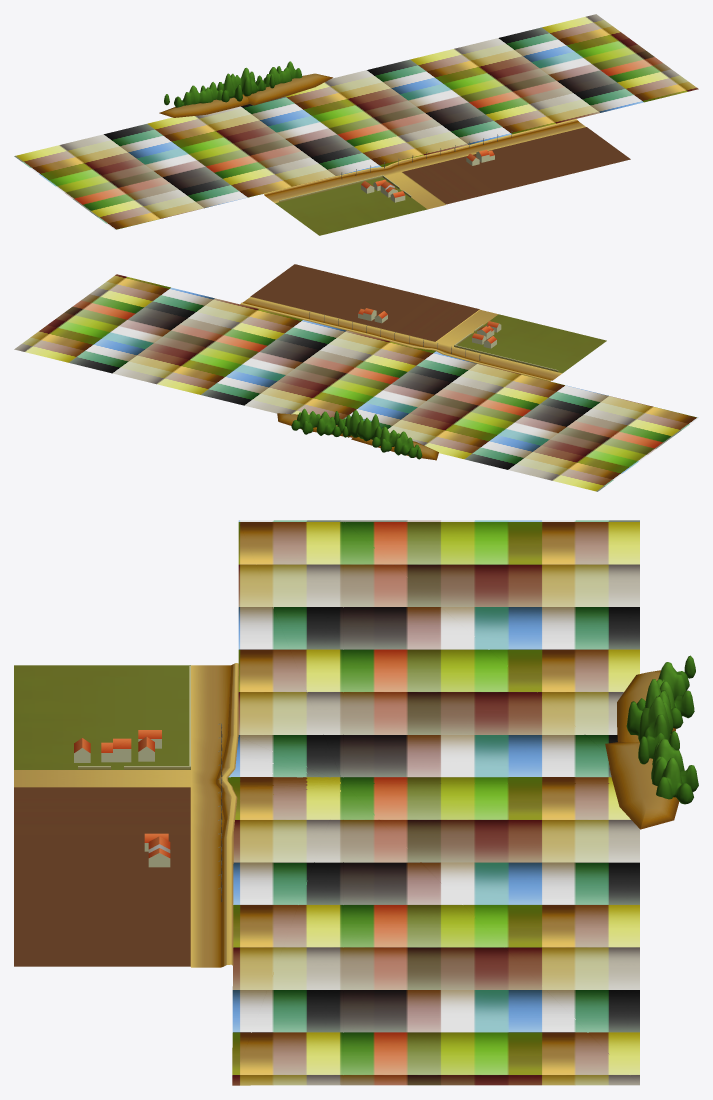
Rendered from Diorama_Dyke.fbx.
The picture shows the model from 3 angles, top to bottom: view 1: azimuth 30°, elevation 25°; view 2: azimuth 150°, elevation 25°; view 3: azimuth 270°, elevation 25°; orthographic projection. The views are drawn at different scales.
Visible parts, largest first — view 1: Plane.003, Plane.001, Plane.006, Icosphere.002, Plane.005, Icosphere.004, Icosphere.003; view 2: Plane.003, Plane.001, Icosphere.003, Icosphere.002, Icosphere.004, Plane.005; view 3: Plane.003, Plane.001, Plane.006, Icosphere.002, Icosphere.003, Icosphere.004, Plane.005.
Part boxes in pixels (x1=…): Plane.003: x1=14, y1=14, x2=698, y2=229; Plane.001: x1=263, y1=119, x2=630, y2=235; Plane.006: x1=244, y1=73, x2=332, y2=105; Icosphere.002: x1=217, y1=67, x2=275, y2=102; Plane.005: x1=159, y1=94, x2=248, y2=117; Icosphere.004: x1=164, y1=82, x2=222, y2=107; Icosphere.003: x1=255, y1=61, x2=302, y2=87; Plane.003: x1=14, y1=274, x2=698, y2=491; Plane.001: x1=240, y1=264, x2=606, y2=381; Icosphere.003: x1=291, y1=408, x2=348, y2=437; Icosphere.002: x1=334, y1=410, x2=384, y2=441; Icosphere.004: x1=372, y1=426, x2=422, y2=459; Plane.005: x1=351, y1=437, x2=438, y2=460; Plane.003: x1=228, y1=520, x2=639, y2=1085; Plane.001: x1=14, y1=663, x2=238, y2=967; Plane.006: x1=605, y1=741, x2=679, y2=829; Icosphere.002: x1=626, y1=679, x2=673, y2=764; Icosphere.003: x1=651, y1=730, x2=698, y2=804; Icosphere.004: x1=657, y1=655, x2=695, y2=728; Plane.005: x1=617, y1=670, x2=675, y2=742.
Size of the model in its own units: 39827 by 1951 by 20405.
